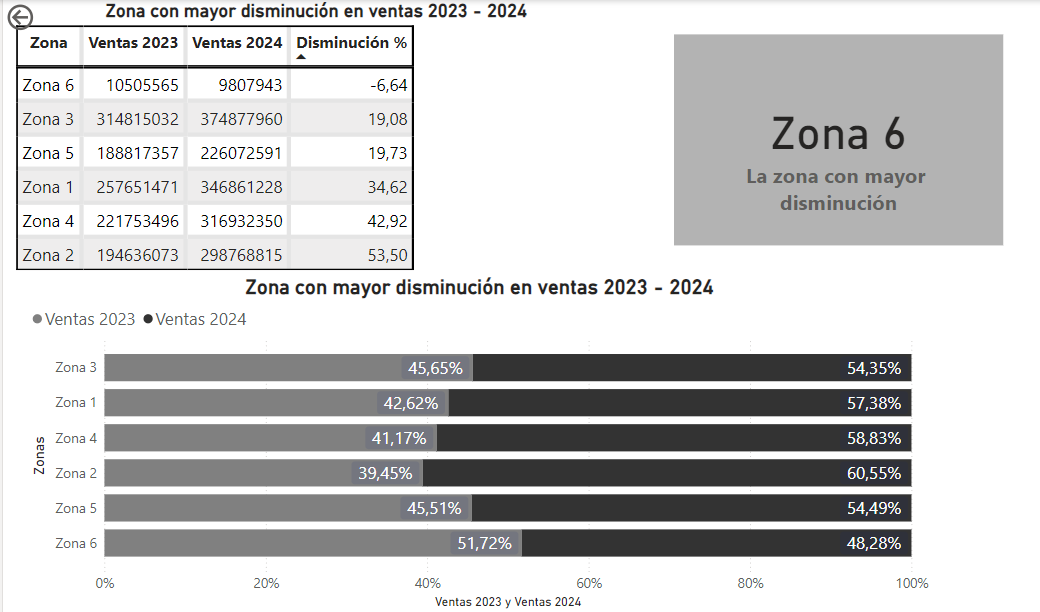

Layout of this report page (visuals, bound fields, positions):
{"tool":"powerbi","page":{"name":"P4_Zona_decremento","canvas":[1280,720],"ordinal":3},"visuals":[{"type":"tableEx","title":"Zona con mayor disminución en ventas 2023 - 2024","fields":{"Values":["T_OPORTUNIDADES_23_24.Zona","T_OPORTUNIDADES_23_24.Ventas 2023","T_OPORTUNIDADES_23_24.Ventas 2024","T_OPORTUNIDADES_23_24.Disminución %"]},"box":[10,0,716.7,338.3],"z":0},{"type":"hundredPercentStackedBarChart","title":"Zona con mayor disminución en ventas 2023 - 2024","fields":{"Category":["T_OPORTUNIDADES_23_24.Zona"],"Y":["T_OPORTUNIDADES_23_24.Ventas 2023","T_OPORTUNIDADES_23_24.Ventas 2024"]},"box":[26.7,323.3,1065,396.7],"z":1000},{"type":"card","fields":{"Values":["Min(T_CRECIMIENTO_ZONAS.Zona)"]},"box":[788.3,40,386.7,248.3],"z":2000},{"type":"actionButton","box":[0,0,100,40],"z":3000}]}

Visuals, with their boxes on the page's 1280x720 design canvas (x1, y1, x2, y2). These are canvas units, not pixel positions in the 1040x612 screenshot, which may show the page scaled, cropped or inside an application window:
"Zona con mayor disminución en ventas 2023 - 2024" tableEx: region(10, 0, 727, 338)
"Zona con mayor disminución en ventas 2023 - 2024" hundredPercentStackedBarChart: region(27, 323, 1092, 720)
card - Min(T_CRECIMIENTO_ZONAS.Zona): region(788, 40, 1175, 288)
actionButton: region(0, 0, 100, 40)
